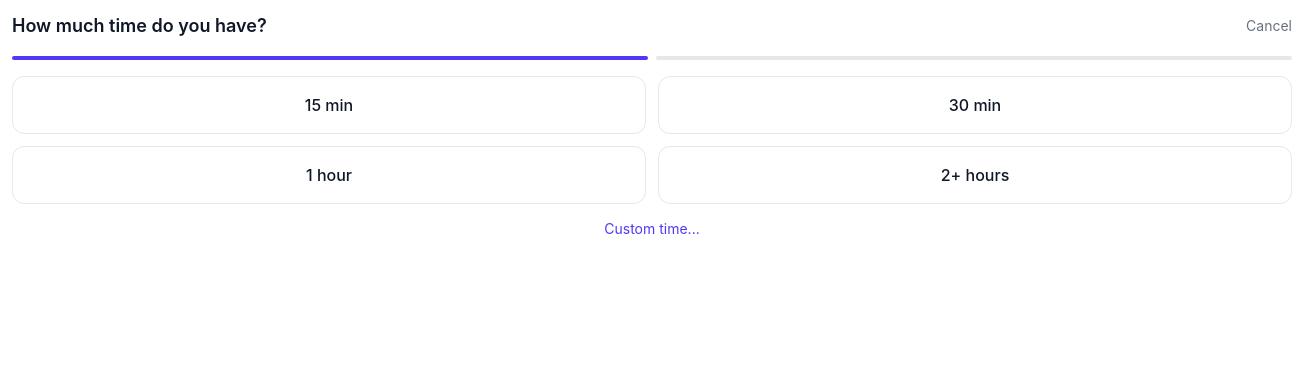
Test: FreeTimeFlow › moves to step 2 when a time preset is selected
This screenshot has width=1304, height=384.
What coordinates should you click on to do the following:
click the button "30 min"
I would click on:
 (975, 105)
Its box is top-left (658, 76), bottom-right (1292, 134).
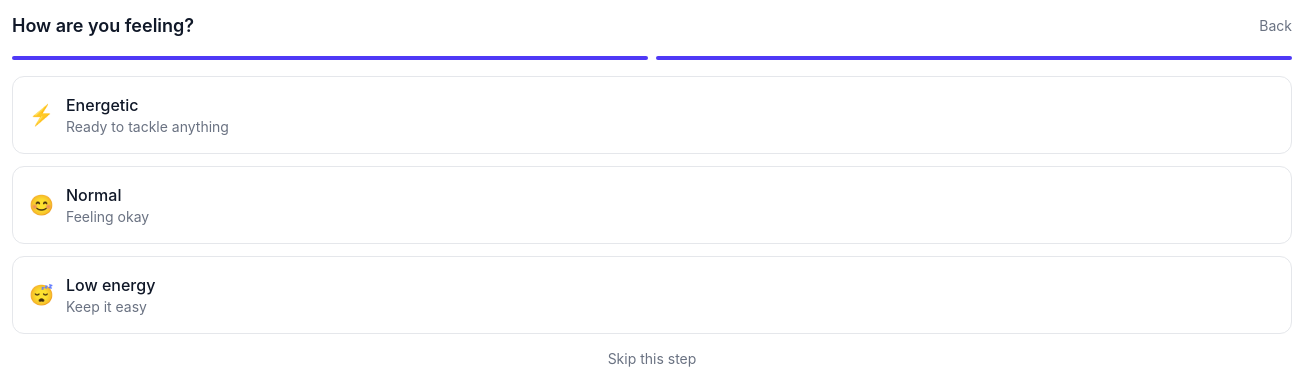
Check: the heading "How are you feeling?" is shown, box top-left (12, 12), bottom-right (194, 40)
Check: the text "Energetic" is shown, box top-left (66, 95), bottom-right (139, 115)
Check: the text "Normal" is shown, box top-left (66, 185), bottom-right (122, 205)
